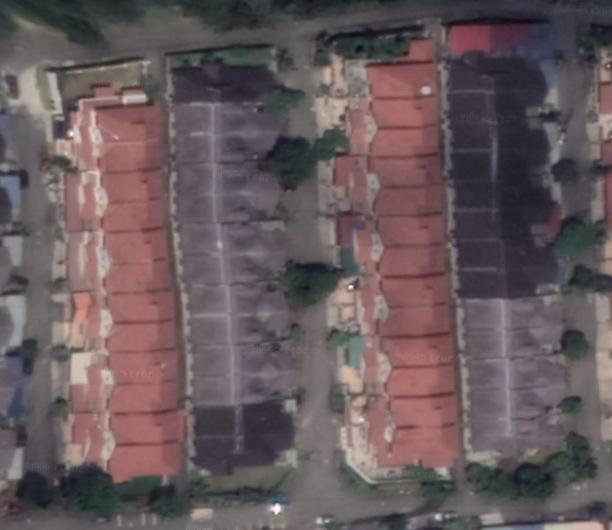building: (189, 430, 300, 482), (169, 54, 285, 99), (465, 413, 571, 462), (363, 36, 441, 102), (439, 46, 552, 87), (71, 103, 165, 147), (458, 320, 567, 357), (172, 217, 294, 250), (80, 445, 183, 482), (450, 233, 560, 267), (463, 354, 569, 389), (182, 309, 294, 342), (180, 276, 291, 309), (167, 157, 284, 188), (454, 262, 563, 295), (82, 413, 184, 448), (169, 98, 288, 128), (192, 400, 298, 433), (187, 337, 293, 370), (450, 202, 559, 234), (464, 381, 572, 413), (445, 144, 556, 175), (444, 116, 555, 147), (178, 248, 292, 278), (190, 368, 293, 401), (84, 352, 179, 387), (382, 429, 461, 471), (80, 262, 176, 296), (170, 190, 290, 217), (78, 201, 170, 236), (83, 324, 179, 357), (84, 384, 180, 417), (80, 231, 172, 265), (456, 297, 567, 325), (442, 87, 553, 115), (86, 291, 177, 325), (168, 130, 287, 156), (363, 156, 445, 192), (450, 177, 557, 204), (373, 247, 449, 282), (80, 171, 163, 203), (381, 368, 460, 401), (383, 399, 462, 432), (376, 339, 457, 371), (373, 217, 447, 252), (376, 278, 452, 312), (374, 309, 453, 341), (73, 147, 164, 174), (366, 130, 443, 160), (367, 100, 439, 132), (369, 190, 445, 220)
